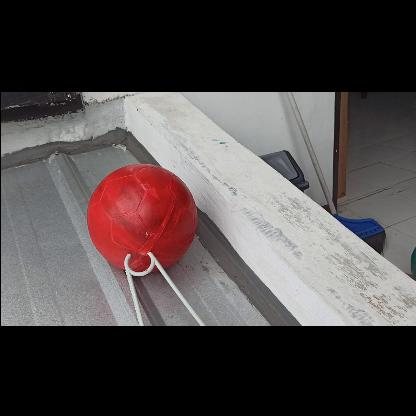red_ball: (86, 162, 195, 272)
